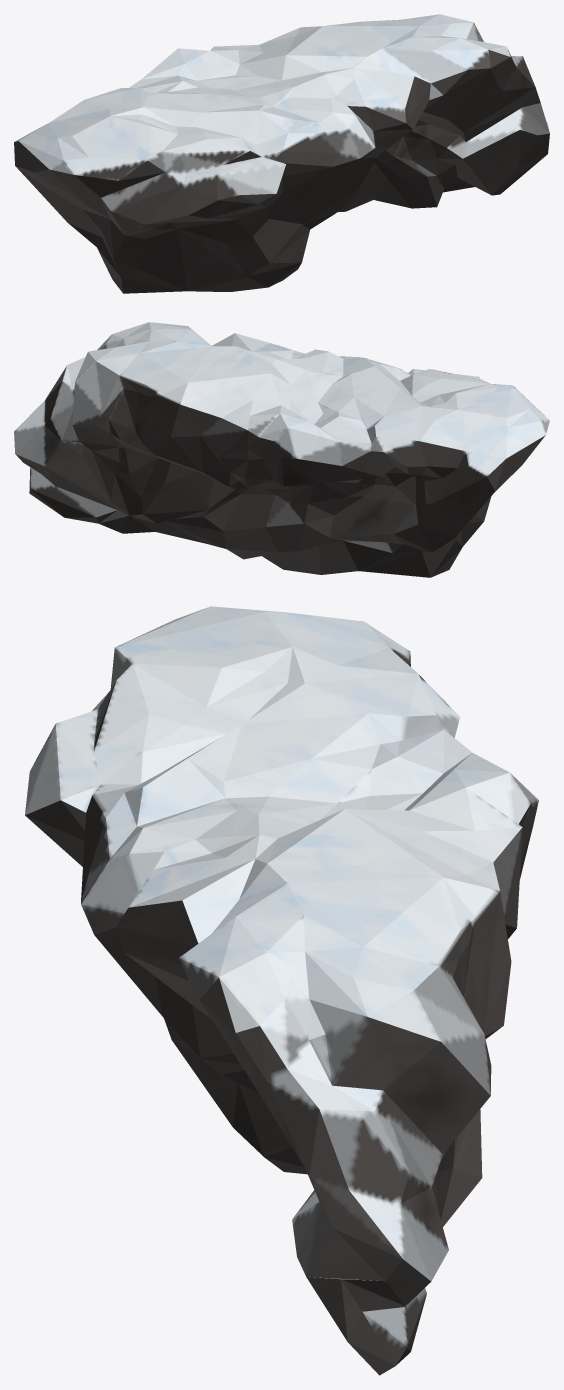
File: pass_boulder.gltf
The picture shows the model from 3 angles, top to bottom: view 1: azimuth 30°, elevation 25°; view 2: azimuth 150°, elevation 25°; view 3: azimuth 270°, elevation 25°; orthographic projection. The views are drawn at different scales.
Parts seen in each view (by area): view 1: pass_boulder; view 2: pass_boulder; view 3: pass_boulder.
Boxes of the visible parts, box(x1,y1,x2,y2) form: pass_boulder: box(14, 14, 549, 293); pass_boulder: box(14, 322, 549, 577); pass_boulder: box(25, 606, 538, 1375).
Size of the model in its own units: 3.1 by 1.16 by 1.42.
Materials: 1 (1 with a texture image).
